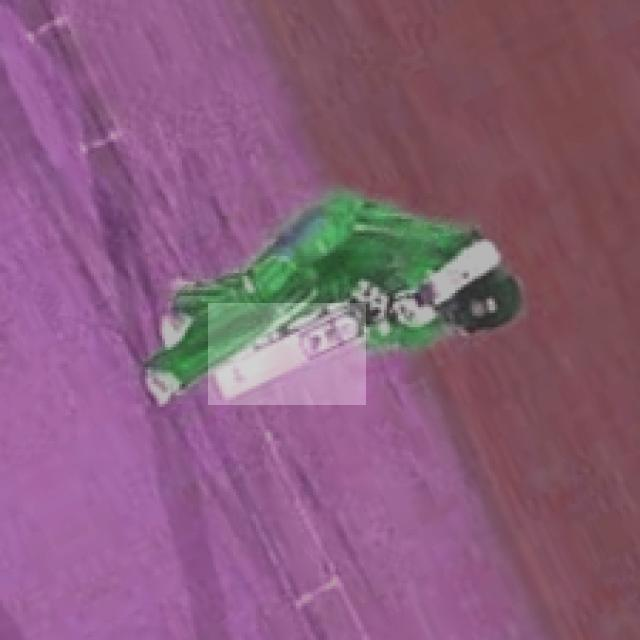bat: (209, 303, 367, 407)
toe: (210, 363, 227, 411)
